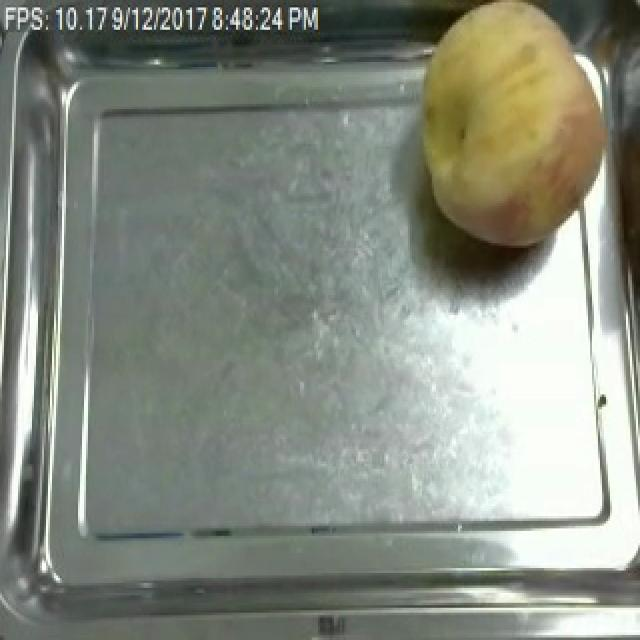Fruit: (402, 0, 624, 258)
